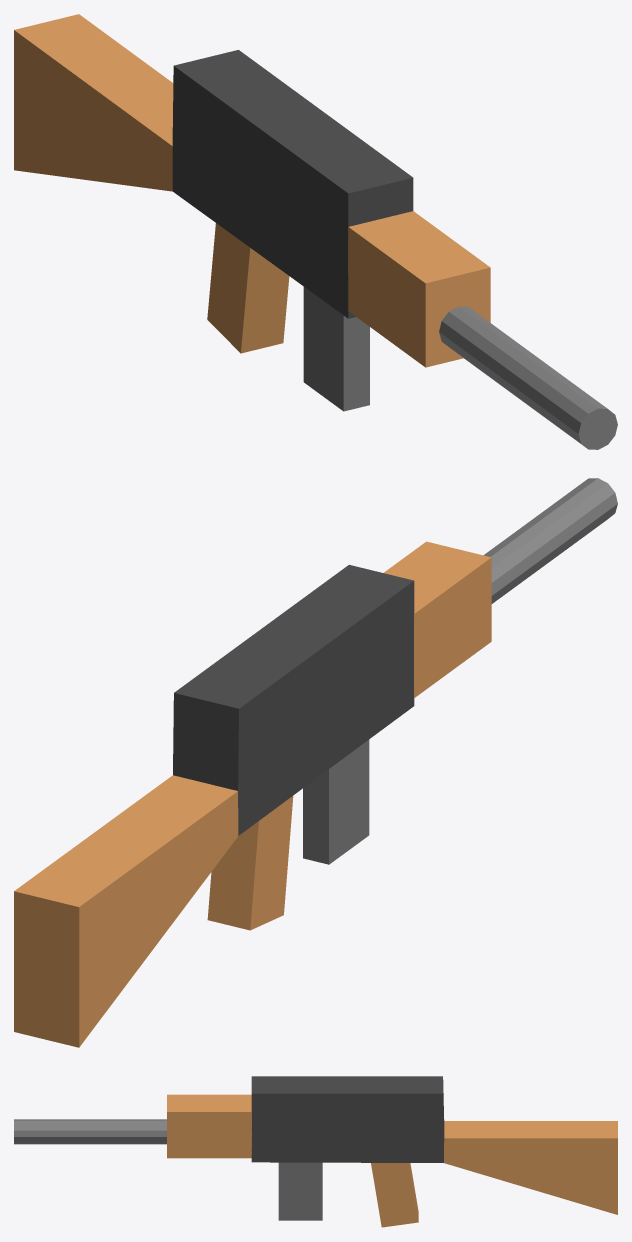
File: AKWeapon.glb
The picture shows the model from 3 angles, top to bottom: view 1: azimuth 30°, elevation 25°; view 2: azimuth 150°, elevation 25°; view 3: azimuth 270°, elevation 25°; orthographic projection. The views are drawn at different scales.
Visible parts, largest first — view 1: AKBody, AKButt.002, AKChamber, AKBarrel, AKRearGrip, AKMagazine; view 2: AKBody, AKButt.002, AKChamber, AKRearGrip, AKBarrel, AKMagazine; view 3: AKBody, AKButt.002, AKChamber, AKBarrel, AKMagazine, AKRearGrip.
Part boxes in pixels (x1=…): AKBody: x1=172, y1=50, x2=413, y2=318; AKButt.002: x1=14, y1=14, x2=173, y2=191; AKChamber: x1=348, y1=211, x2=490, y2=367; AKBarrel: x1=439, y1=306, x2=617, y2=449; AKRearGrip: x1=207, y1=223, x2=289, y2=353; AKMagazine: x1=303, y1=287, x2=369, y2=411; AKBody: x1=173, y1=564, x2=414, y2=835; AKButt.002: x1=14, y1=775, x2=238, y2=1047; AKChamber: x1=384, y1=541, x2=491, y2=698; AKRearGrip: x1=207, y1=796, x2=293, y2=930; AKBarrel: x1=483, y1=478, x2=617, y2=603; AKMagazine: x1=303, y1=739, x2=369, y2=864; AKBody: x1=251, y1=1076, x2=444, y2=1162; AKButt.002: x1=444, y1=1121, x2=617, y2=1214; AKChamber: x1=167, y1=1094, x2=251, y2=1158; AKBarrel: x1=14, y1=1119, x2=166, y2=1144; AKMagazine: x1=278, y1=1162, x2=322, y2=1220; AKRearGrip: x1=371, y1=1163, x2=418, y2=1227.
Bounding box in the file's own units: 0.0556 × 0.204 × 0.8161.
